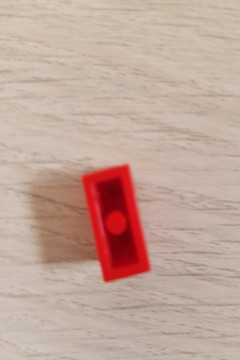1x2 red: (81, 163, 161, 284)
